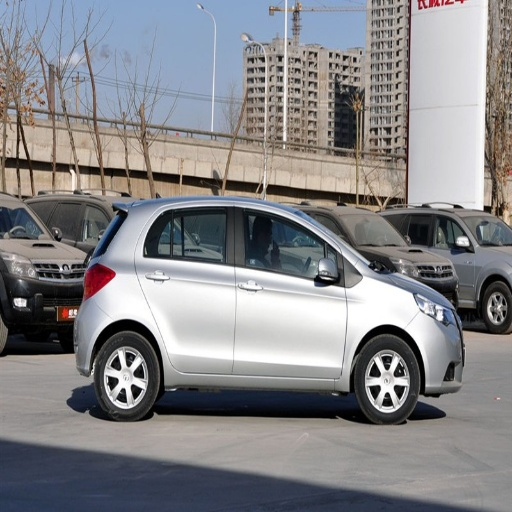back_bumper: (66, 298, 102, 372)
back_right_door: (136, 207, 236, 374)
front_bumper: (421, 317, 460, 380)
front_right_door: (233, 207, 347, 378)
